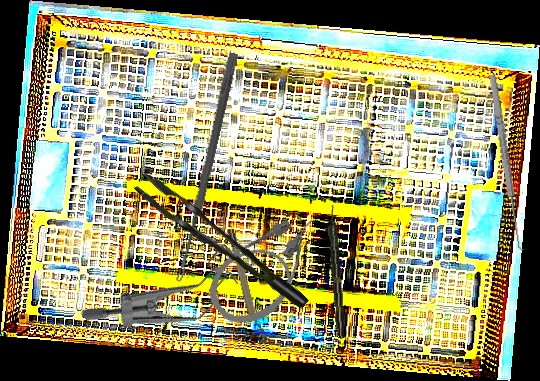Cannula: (196, 202, 341, 338)
Fixation Ring: (225, 226, 266, 340)
Handpiece: (326, 204, 347, 339)
Hook Surgical: (486, 72, 532, 252)
Speculum: (79, 201, 256, 379)
Surgical Spoon: (174, 51, 239, 284)
Tissue Forceps: (131, 156, 310, 331)
